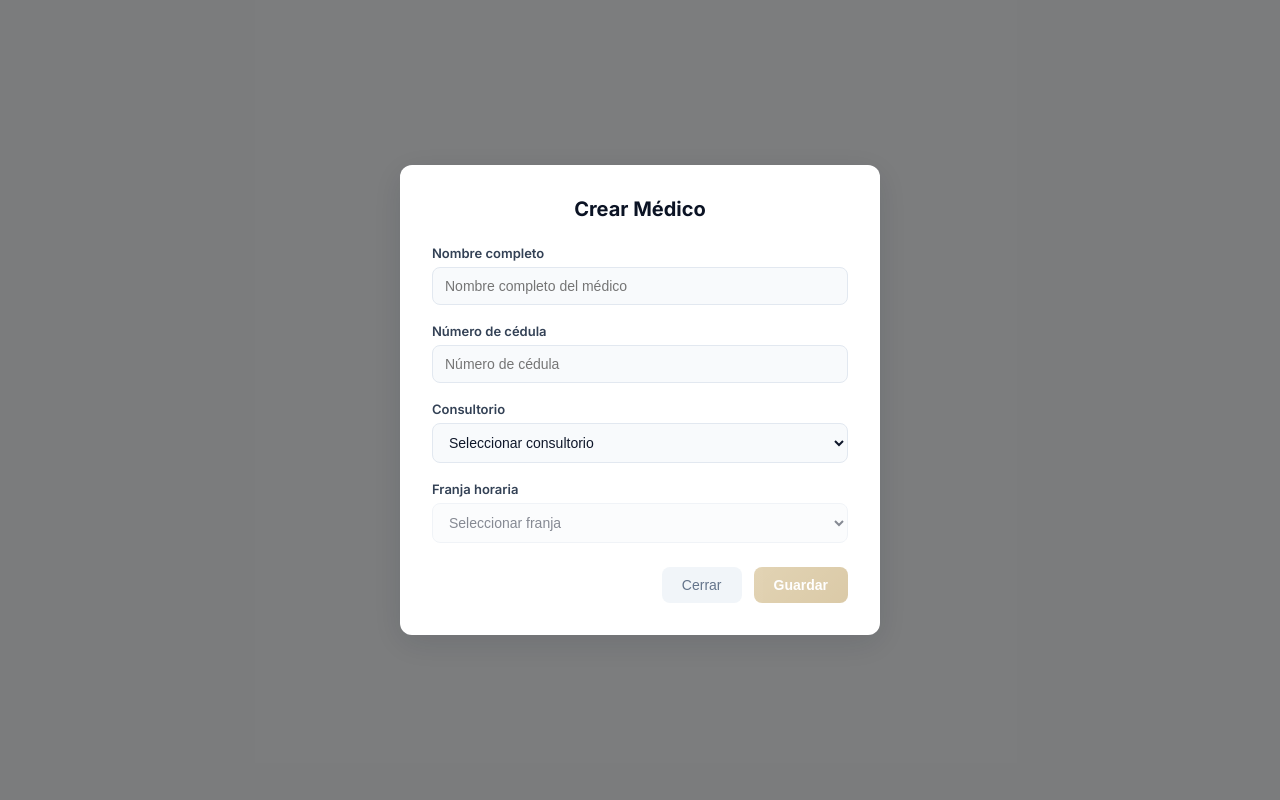
Test case: DoctorFormModal › shows cedula validation error when cedula is invalid and blurred
Type "123" into the field labelled "Número de cédula" at point(640, 364), box [432,345,848,383]
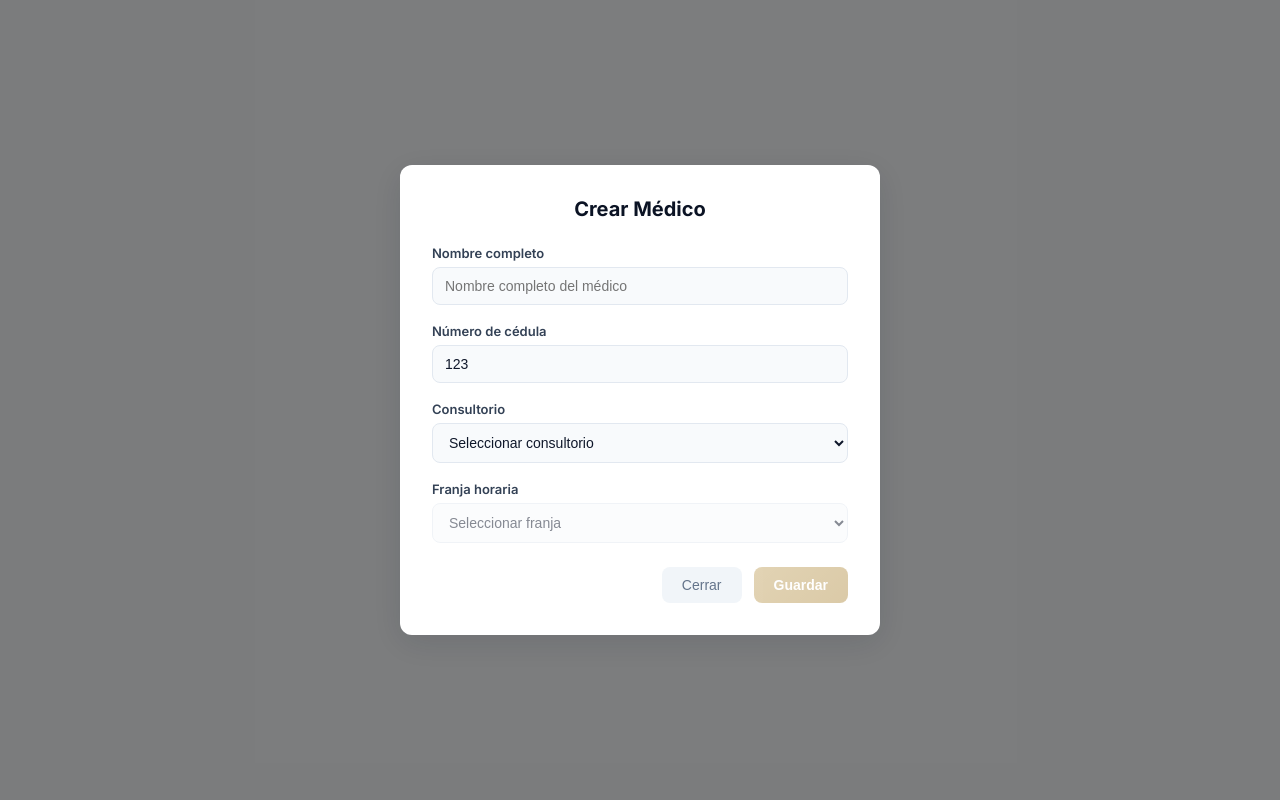
Leave the field labelled "Número de cédula", box [432,345,848,383]
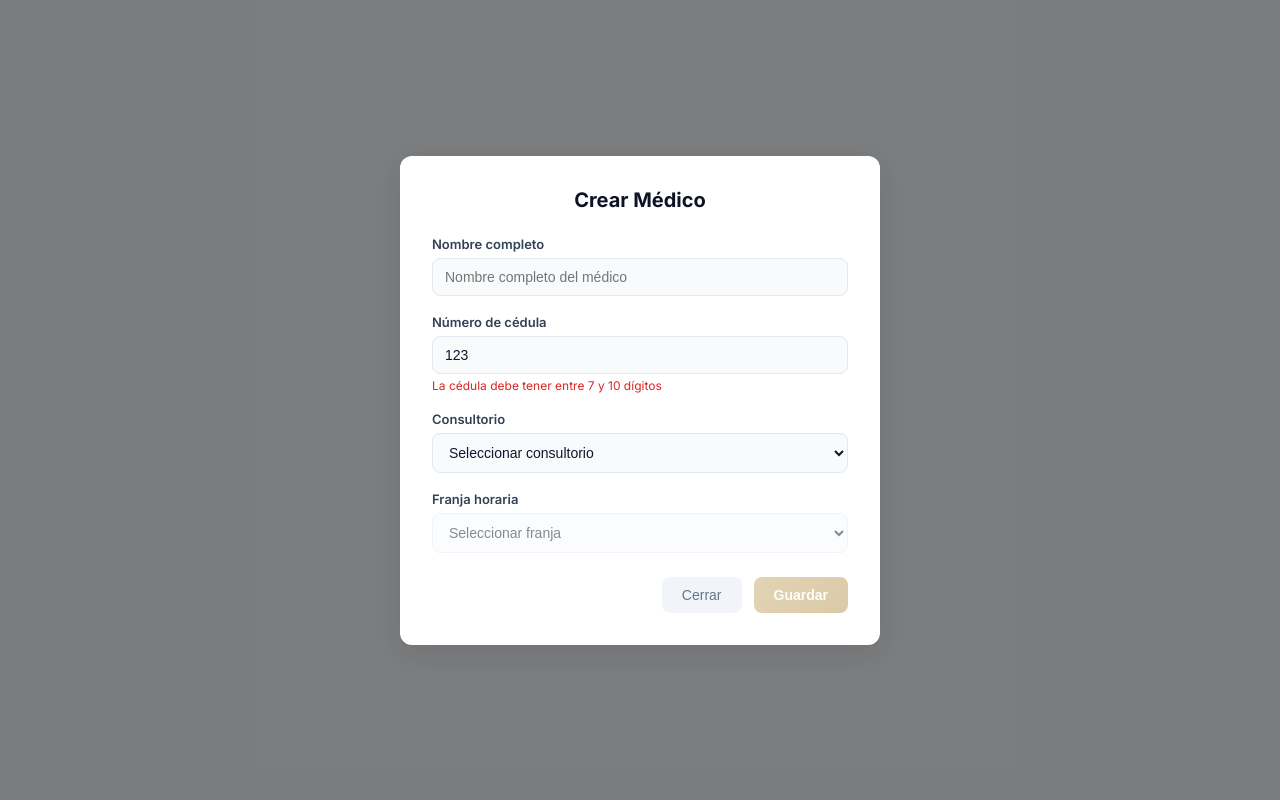
Now the text "La cédula debe tener entre 7 y 10 dígitos" is shown, box [432,378,662,392]
